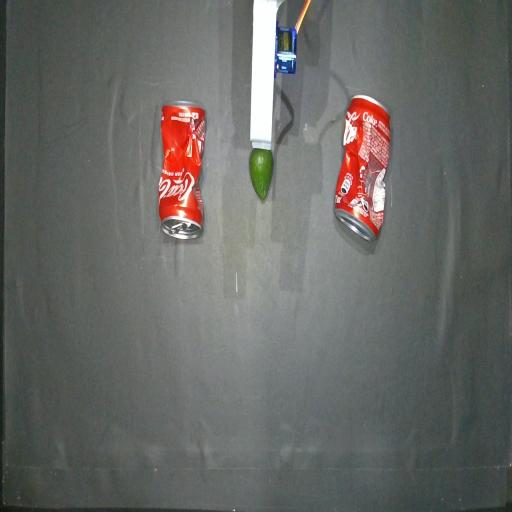higo: (249, 148, 273, 201)
lata_defectuoso: (334, 96, 390, 240), (158, 101, 206, 239)
